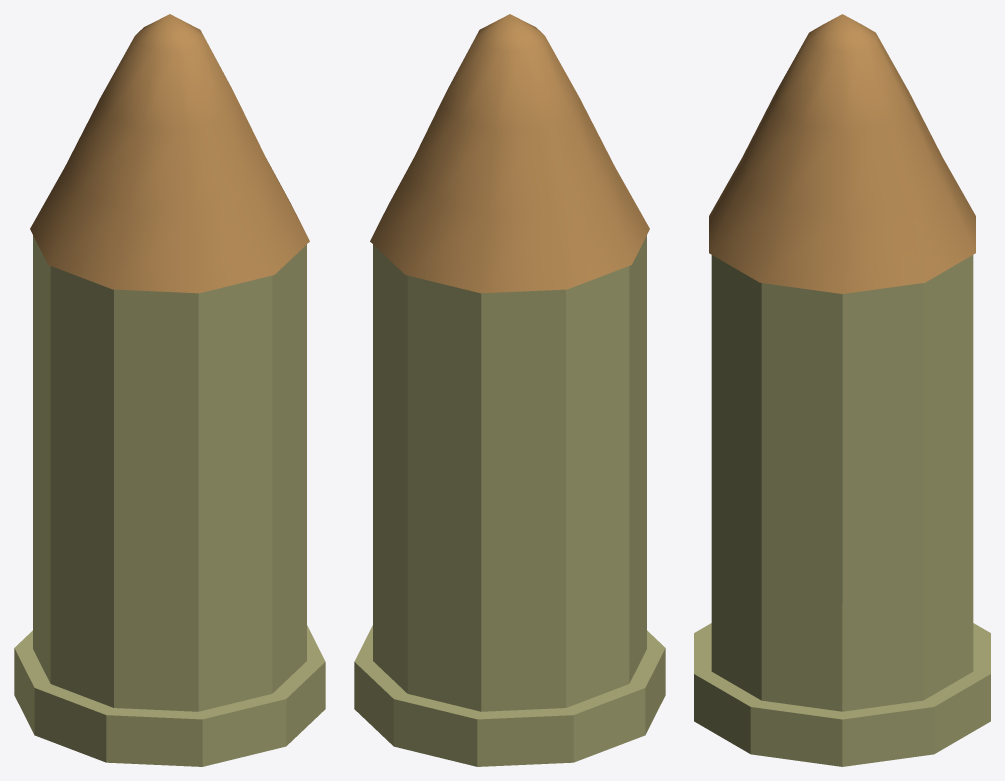
File: Bullet_01.fbx
3 renders of one model, left to right at view 1: azimuth 30°, elevation 25°; view 2: azimuth 150°, elevation 25°; view 3: azimuth 270°, elevation 25°, orthographic.
Parts seen in each view (by area): view 1: polySurface1; view 2: polySurface1; view 3: polySurface1.
Part boxes in pixels (box(x1,y1,x2,y2)): polySurface1: box(14, 14, 325, 766); polySurface1: box(354, 14, 665, 766); polySurface1: box(694, 14, 990, 766).
Bounding box in the file's own units: 13.61 × 33.59 × 12.95.
